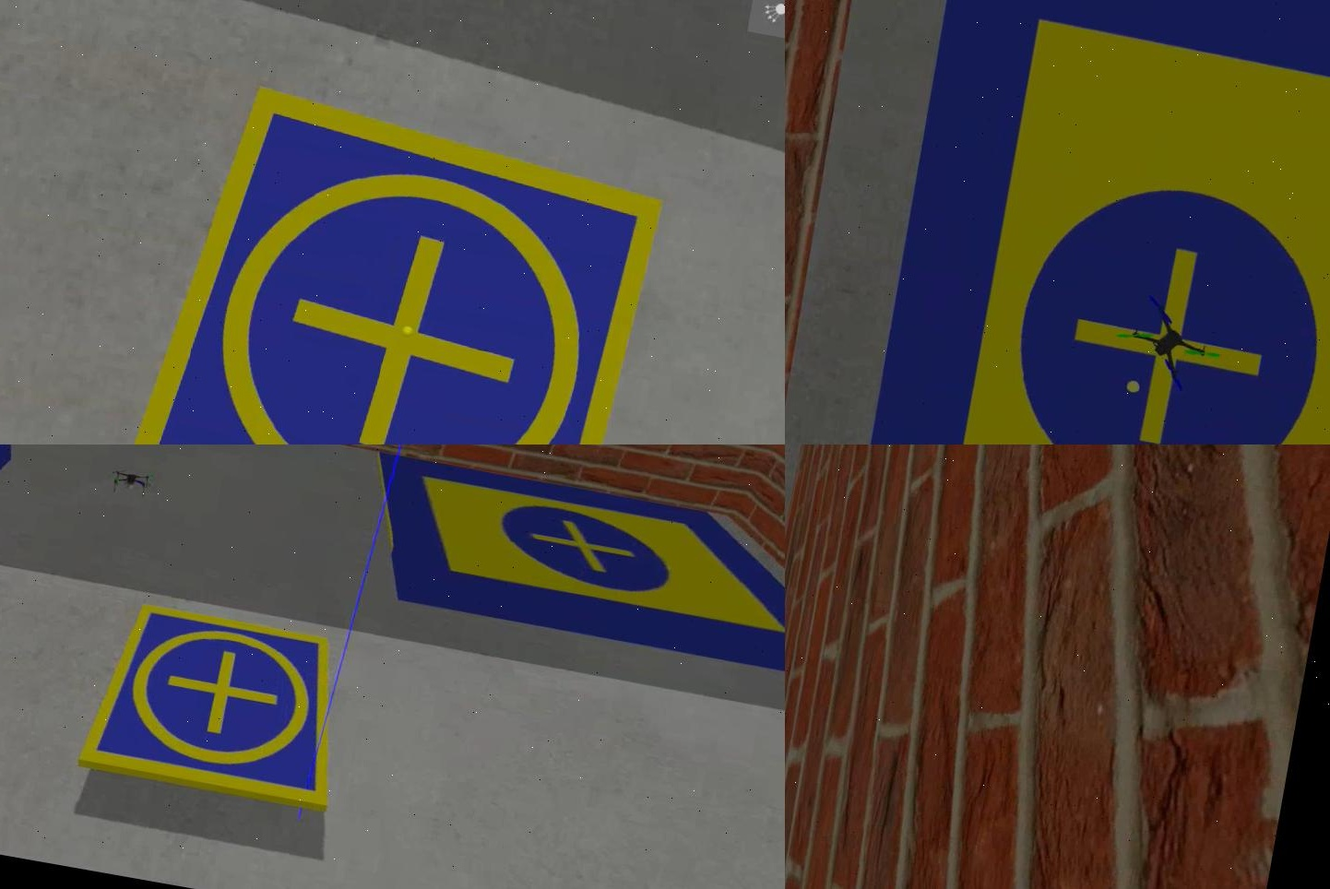large_base: (856, 1, 1328, 445), (355, 450, 783, 687)
small_base: (106, 74, 672, 445), (72, 595, 353, 812)
